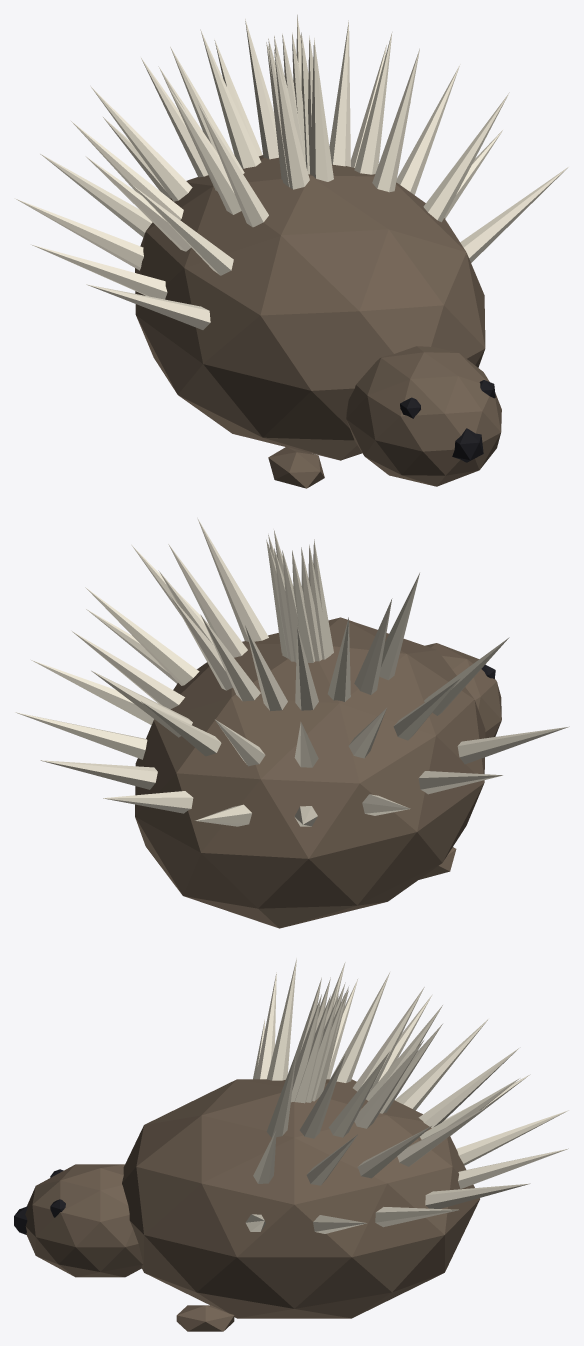
Rendered from Porcupine.fbx.
The picture shows the model from 3 angles, top to bottom: view 1: azimuth 30°, elevation 25°; view 2: azimuth 150°, elevation 25°; view 3: azimuth 270°, elevation 25°; orthographic projection. The views are drawn at different scales.
Parts seen in each view (by area): view 1: Body, Quills, Nose; view 2: Body, Quills; view 3: Body, Quills.
Boxes of the visible parts, bbox=[...] form: Body: bbox=[135, 155, 501, 488]; Quills: bbox=[14, 14, 568, 329]; Nose: bbox=[452, 428, 483, 462]; Body: bbox=[135, 617, 501, 928]; Quills: bbox=[15, 518, 569, 826]; Body: bbox=[25, 1079, 479, 1331]; Quills: bbox=[245, 958, 568, 1233].
Bounding box in the file's own units: 2.95 × 2.21 × 3.44.
